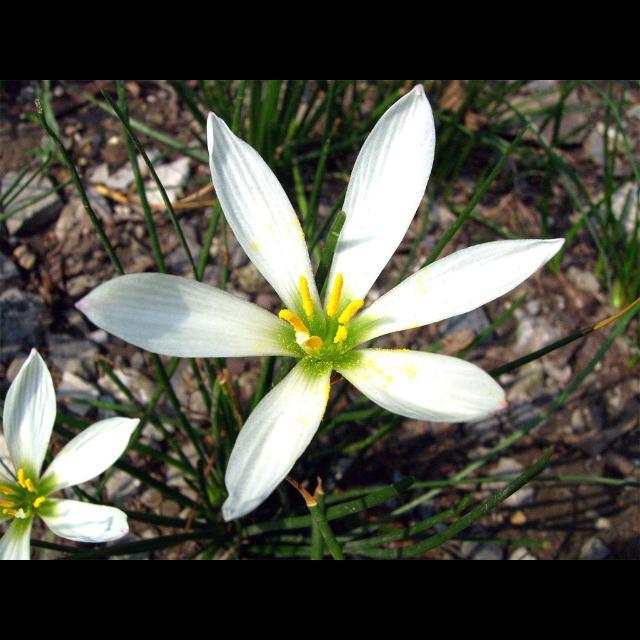Flower: (114, 80, 558, 504), (0, 343, 142, 559)
